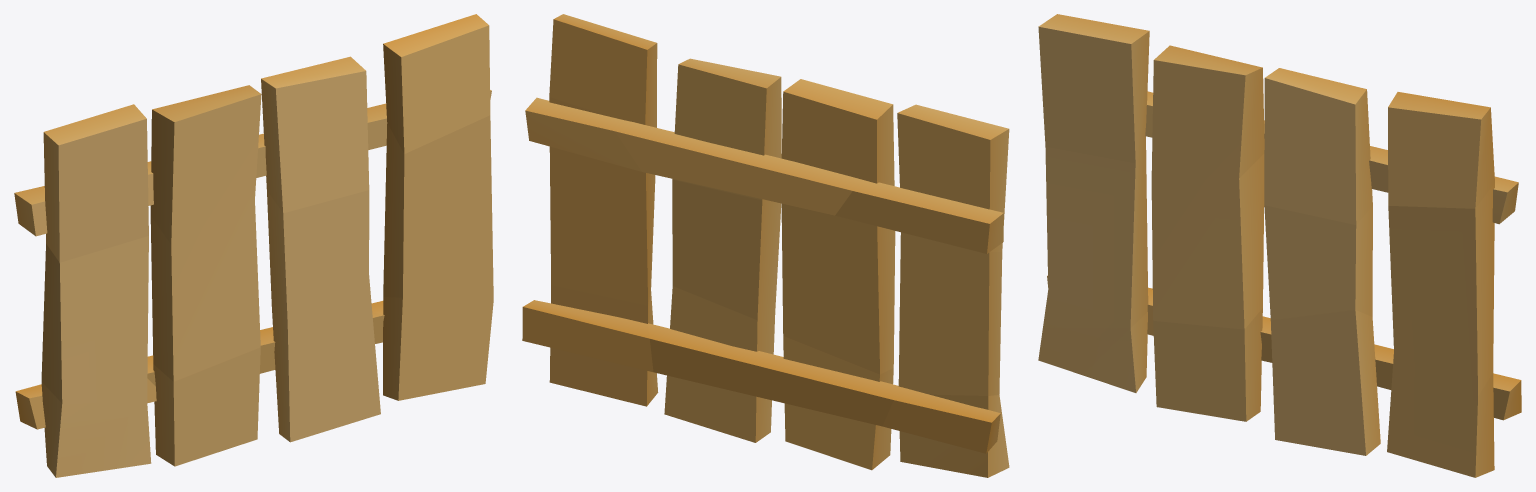
The model's file is PagarKayu3.fbx.
The picture shows the model from 3 angles, left to right: view 1: azimuth 30°, elevation 25°; view 2: azimuth 150°, elevation 25°; view 3: azimuth 330°, elevation 25°; orthographic projection.
Visible parts, largest first — view 1: Fence_04; view 2: Fence_04; view 3: Fence_04.
Boxes of the visible parts, x1=… form: Fence_04: x1=14, y1=14, x2=493, y2=477; Fence_04: x1=522, y1=14, x2=1009, y2=477; Fence_04: x1=1038, y1=14, x2=1521, y2=477.
Size of the model in its own units: 102 by 77.72 by 12.83.
